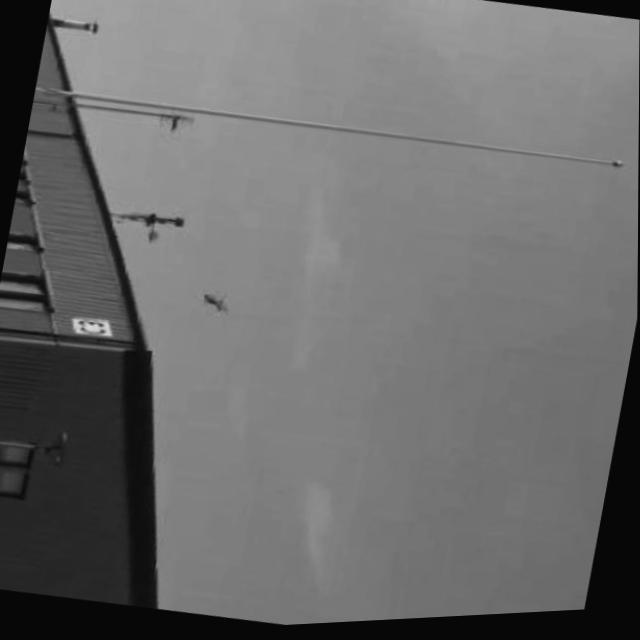helikopter: (194, 281, 240, 325)
